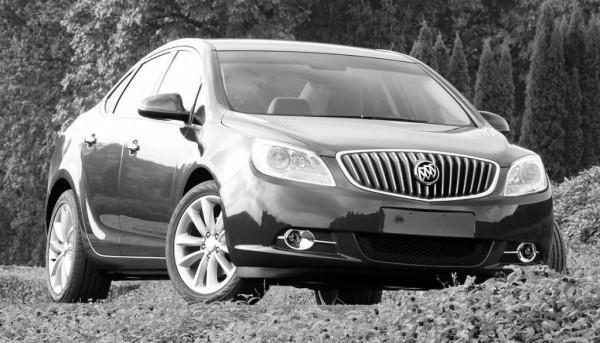car: (45, 37, 566, 304)
